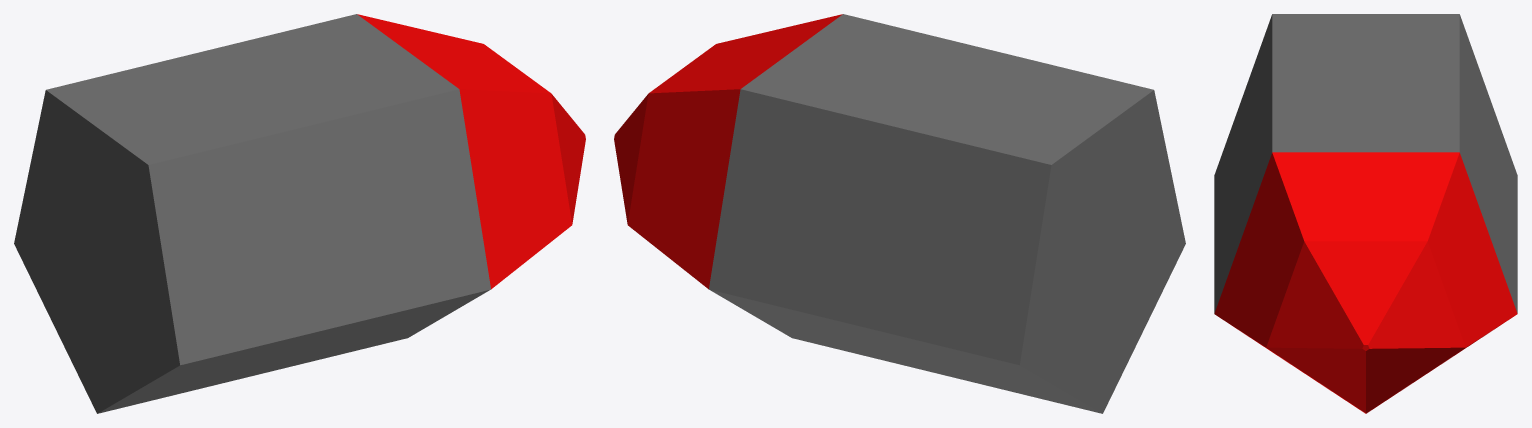
Rendered from Revolver bullet red.FBX.
The picture shows the model from 3 angles, left to right: view 1: azimuth 30°, elevation 25°; view 2: azimuth 150°, elevation 25°; view 3: azimuth 270°, elevation 25°; orthographic projection. The views are drawn at different scales.
Parts seen in each view (by area): view 1: Revolver bullet, Object001; view 2: Revolver bullet, Object001; view 3: Object001, Revolver bullet.
Part boxes in pixels (x1,y1,x2,y2): Revolver bullet: (14,14,490,413); Object001: (357,14,585,289); Revolver bullet: (709,14,1185,413); Object001: (614,14,842,289); Object001: (1214,152,1517,413); Revolver bullet: (1214,14,1517,313).
Size of the model in its own units: 5.53 by 3.11 by 3.27.
